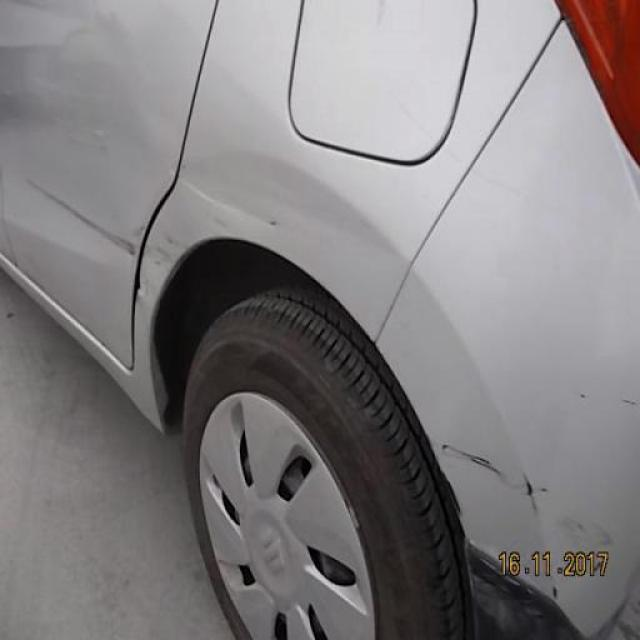car damage: (21, 169, 140, 261), (436, 435, 506, 480), (147, 224, 191, 274), (522, 468, 539, 520), (616, 393, 640, 410), (578, 387, 590, 406)
